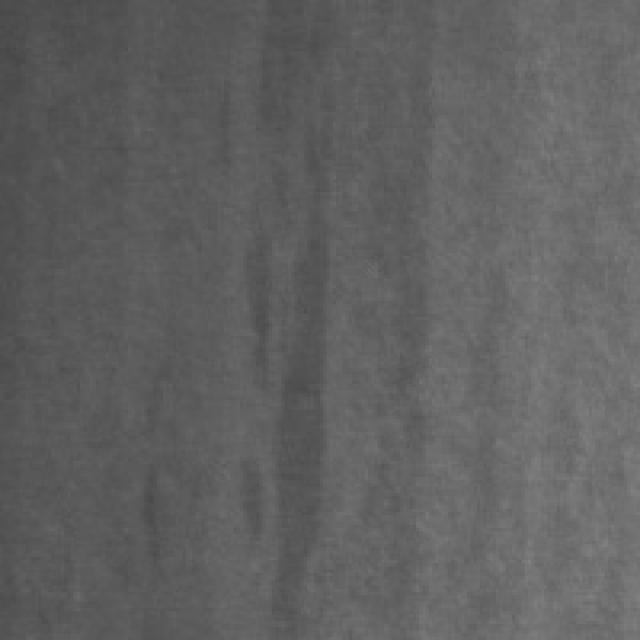inclusion: (221, 80, 342, 627), (118, 445, 176, 579)
